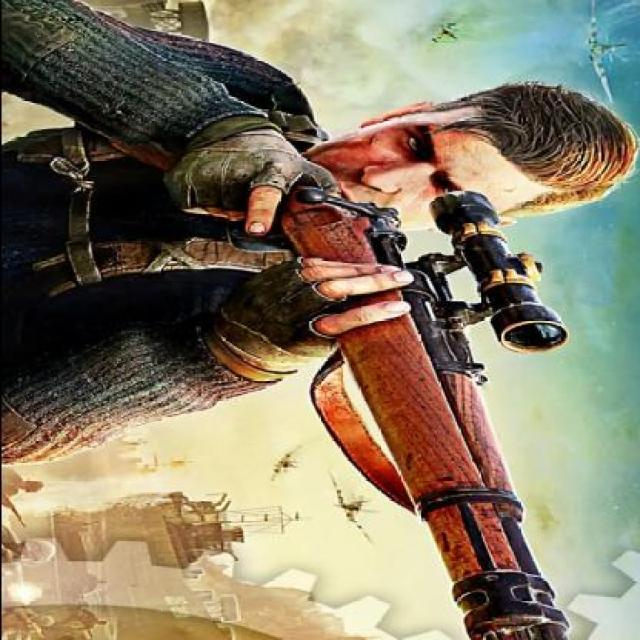weapon: (233, 167, 604, 640)
